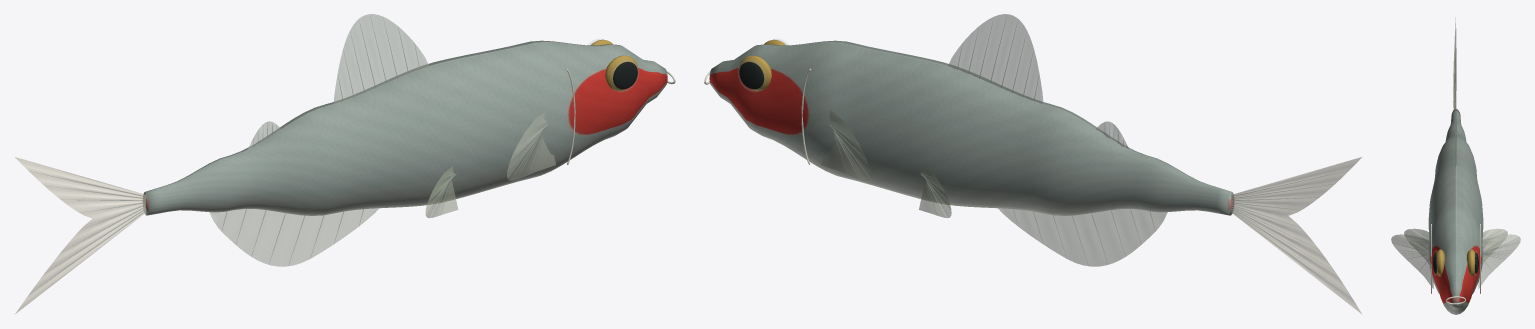
The model's file is rummy-mobile.glb.
The picture shows the model from 3 angles, left to right: view 1: azimuth 30°, elevation 25°; view 2: azimuth 150°, elevation 25°; view 3: azimuth 270°, elevation 25°; orthographic projection. The views are drawn at different scales.
Parts seen in each view (by area): view 1: skin, tail, anal, dorsal, dorsal-ray, pectoral-left, pelvic-left, eye-pupil--1, eye-iris--1; view 2: skin, tail, anal, dorsal, dorsal-ray, pectoral-left, pelvic-left, eye-pupil--1, eye-iris--1; view 3: skin, pectoral-left, pelvic-left, eye-iris--1, dorsal-ray, tail, operculum, eye-pupil--1, dorsal.
Boxes of the visible parts, bbox=[...] form: skin: bbox=[143, 40, 667, 215]; tail: bbox=[15, 157, 145, 313]; anal: bbox=[209, 208, 378, 266]; dorsal: bbox=[248, 14, 428, 149]; dorsal-ray: bbox=[29, 16, 547, 293]; pectoral-left: bbox=[507, 110, 555, 180]; pelvic-left: bbox=[425, 166, 458, 217]; eye-pupil--1: bbox=[613, 61, 637, 89]; eye-iris--1: bbox=[591, 39, 638, 91]; skin: bbox=[709, 40, 1233, 215]; tail: bbox=[1231, 157, 1361, 313]; anal: bbox=[998, 208, 1167, 266]; dorsal: bbox=[948, 14, 1128, 148]; dorsal-ray: bbox=[829, 14, 1341, 286]; pectoral-left: bbox=[821, 111, 869, 180]; pelvic-left: bbox=[919, 166, 951, 217]; eye-pupil--1: bbox=[739, 61, 764, 89]; eye-iris--1: bbox=[739, 39, 785, 91]; skin: bbox=[1428, 109, 1483, 314]; pectoral-left: bbox=[1391, 234, 1520, 288]; pelvic-left: bbox=[1404, 228, 1507, 263]; eye-iris--1: bbox=[1436, 249, 1475, 276]; dorsal-ray: bbox=[1394, 76, 1516, 268]; tail: bbox=[1453, 17, 1456, 109]; operculum: bbox=[1431, 224, 1480, 304]; eye-pupil--1: bbox=[1433, 252, 1478, 273]; dorsal: bbox=[1455, 100, 1456, 167].
Bounding box in the file's own units: 0.5972 × 0.2031 × 0.1425.
Materials: 11 (1 with a texture image).
